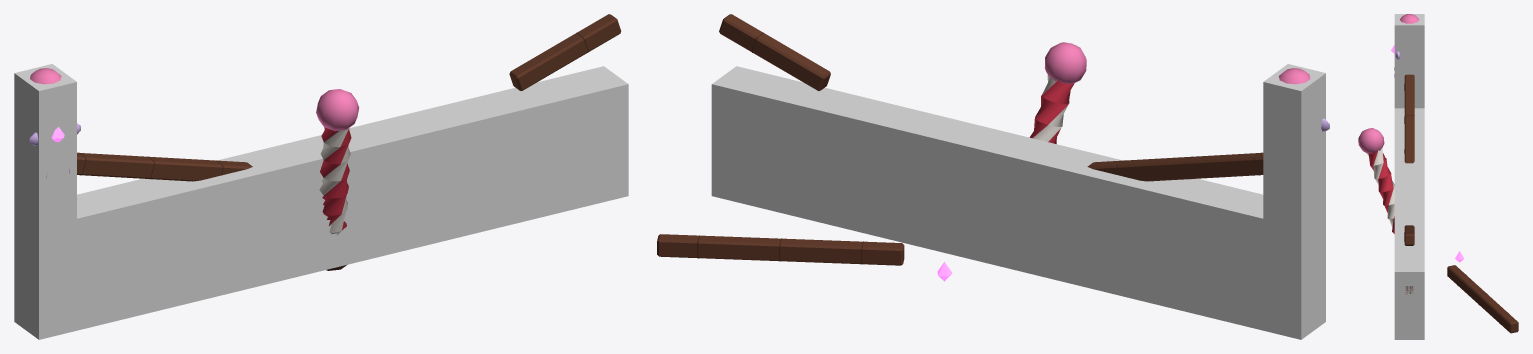
File: Candy_Fence_Broken.fbx
3 renders of one model, left to right at view 1: azimuth 30°, elevation 25°; view 2: azimuth 150°, elevation 25°; view 3: azimuth 270°, elevation 25°, orthographic. The views are drawn at different scales.
Visible parts, largest first — view 1: COL_Candy_Fence_Broken_0, COL_Candy_Fence_Broken_1, Candy_Fence_Broken_Rails, Candy_Fence_Broken_Posts; view 2: COL_Candy_Fence_Broken_0, COL_Candy_Fence_Broken_1, Candy_Fence_Broken_Rails, Candy_Fence_Broken_Posts; view 3: COL_Candy_Fence_Broken_0, Candy_Fence_Broken_Rails, COL_Candy_Fence_Broken_1, Candy_Fence_Broken_Posts, Candy_Fence_Broken_Decoration.
Boxes of the visible parts, x1,y1,x2,y2 form: COL_Candy_Fence_Broken_0: (14, 66, 628, 339); COL_Candy_Fence_Broken_1: (14, 64, 76, 334); Candy_Fence_Broken_Rails: (77, 14, 621, 181); Candy_Fence_Broken_Posts: (30, 68, 359, 270); COL_Candy_Fence_Broken_0: (711, 66, 1325, 339); COL_Candy_Fence_Broken_1: (1263, 64, 1325, 339); Candy_Fence_Broken_Rails: (657, 14, 1263, 265); Candy_Fence_Broken_Posts: (1029, 42, 1310, 143); COL_Candy_Fence_Broken_0: (1394, 108, 1424, 339); Candy_Fence_Broken_Rails: (1404, 74, 1518, 333); COL_Candy_Fence_Broken_1: (1394, 14, 1424, 108); Candy_Fence_Broken_Posts: (1358, 14, 1419, 233); Candy_Fence_Broken_Decoration: (1391, 45, 1463, 262).
Bounding box in the file's own units: 2.52 × 1.05 × 0.962.
